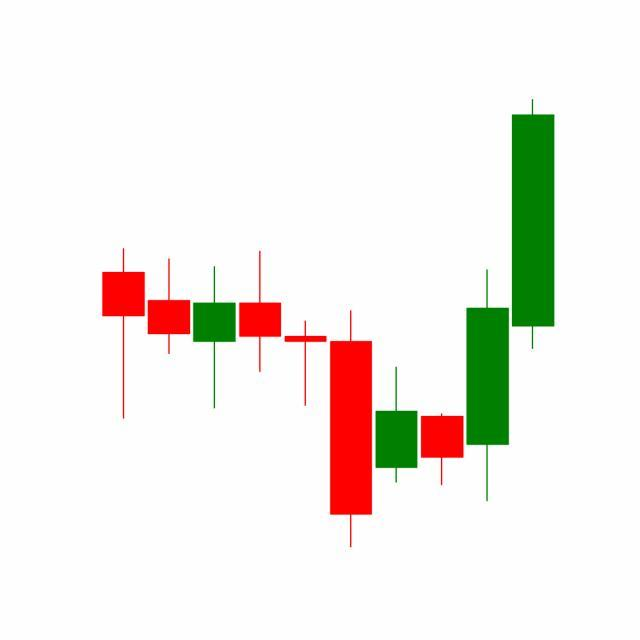Hikkake Pattern: (283, 266, 512, 549)
